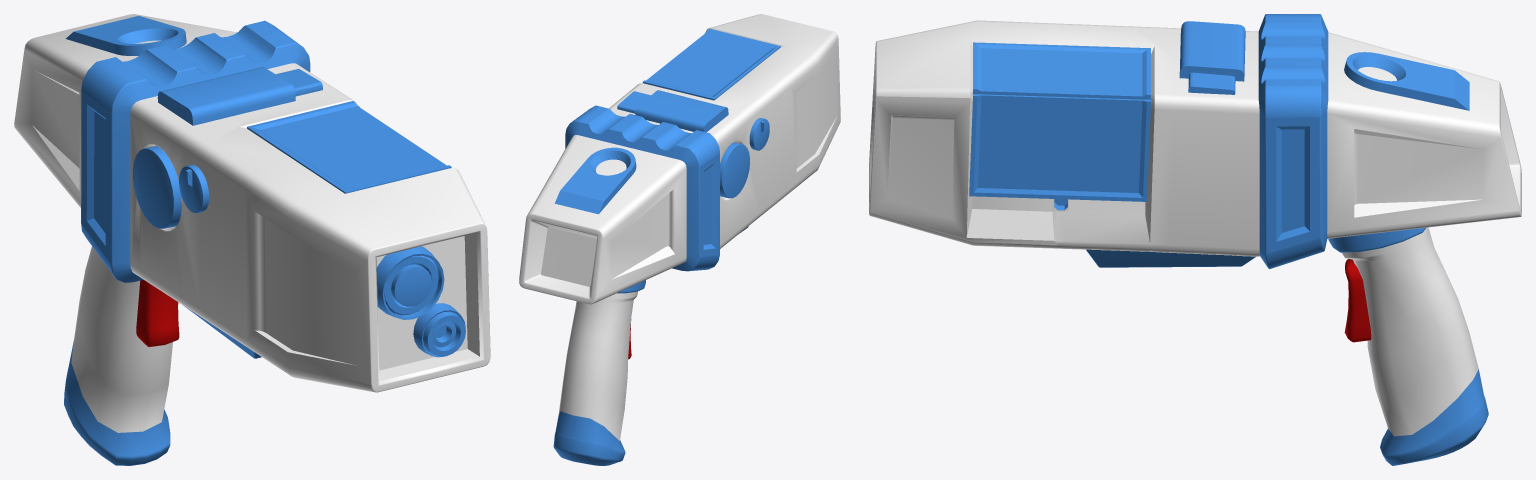
File: VRScanner.FBX
3 views of the same model, side by side, from view 1: azimuth 30°, elevation 25°; view 2: azimuth 150°, elevation 25°; view 3: azimuth 270°, elevation 25° (orthographic). The views are drawn at different scales.
Parts seen in each view (by area): view 1: Scanner, ScreenLeft, ScannerTrigger; view 2: Scanner, ScreenLeft; view 3: Scanner, ScreenRight, ScreenLeft, ScannerTrigger.
Boxes of the visible parts, x1,y1,x2,y2 form: Scanner: (14,14,490,465); ScreenLeft: (247,101,451,193); ScannerTrigger: (136,279,179,346); Scanner: (519,14,840,465); ScreenLeft: (642,28,780,100); Scanner: (869,14,1521,465); ScreenRight: (969,94,1150,201); ScreenLeft: (972,42,1150,99); ScannerTrigger: (1344,259,1371,342).
Bounding box in the file's own units: 9.1 × 19.7 × 28.64.
